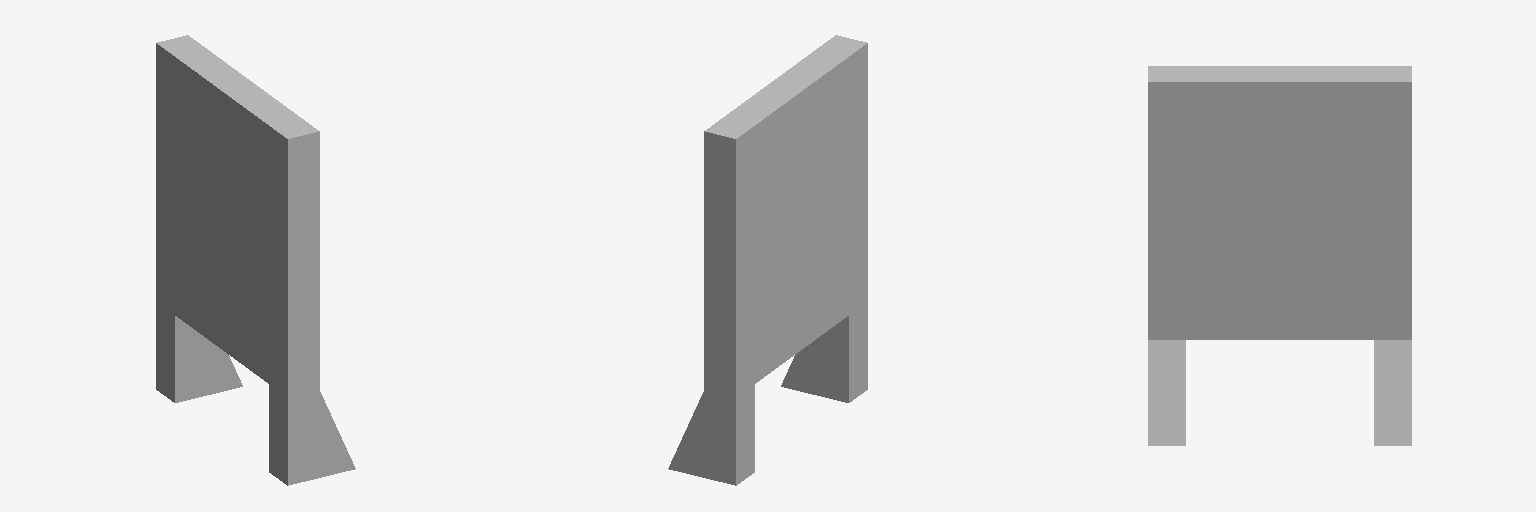
File: fence.obj
3 renders of one model, left to right at view 1: azimuth 30°, elevation 25°; view 2: azimuth 150°, elevation 25°; view 3: azimuth 270°, elevation 25°, orthographic.
Visible parts, largest first — view 1: Cube.002; view 2: Cube.002; view 3: Cube.002.
Part boxes in pixels (x1,y1,x2,y2): Cube.002: (156, 35, 355, 485); Cube.002: (668, 35, 867, 485); Cube.002: (1148, 66, 1411, 445).
Bounding box in the file's own units: 1.1 × 5.33 × 3.67.